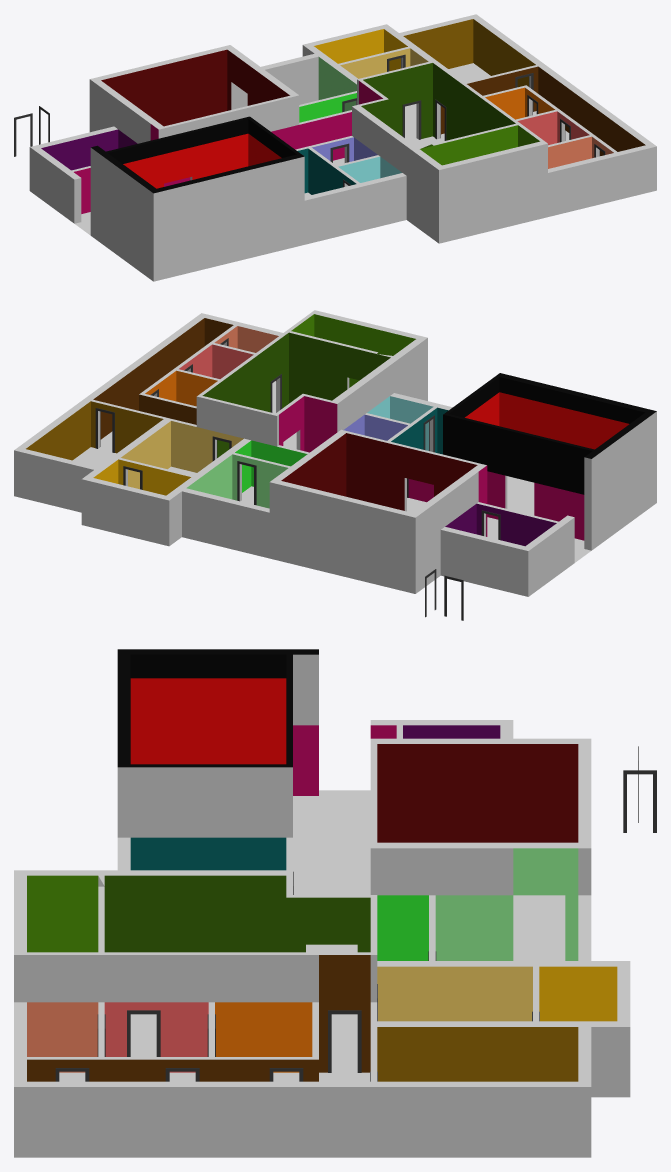
The model's file is EstructuraMansion.fbx.
3 renders of one model, top to bottom at view 1: azimuth 30°, elevation 25°; view 2: azimuth 150°, elevation 25°; view 3: azimuth 270°, elevation 25°, orthographic. The views are drawn at different scales.
Parts seen in each view (by area): view 1: Model; view 2: Model; view 3: Model.
Part boxes in pixels (x1=…): Model: x1=14, y1=14, x2=656, y2=281; Model: x1=14, y1=310, x2=656, y2=620; Model: x1=14, y1=649, x2=656, y2=1157.
Size of the model in its own units: 33.5 by 6 by 24.78.
